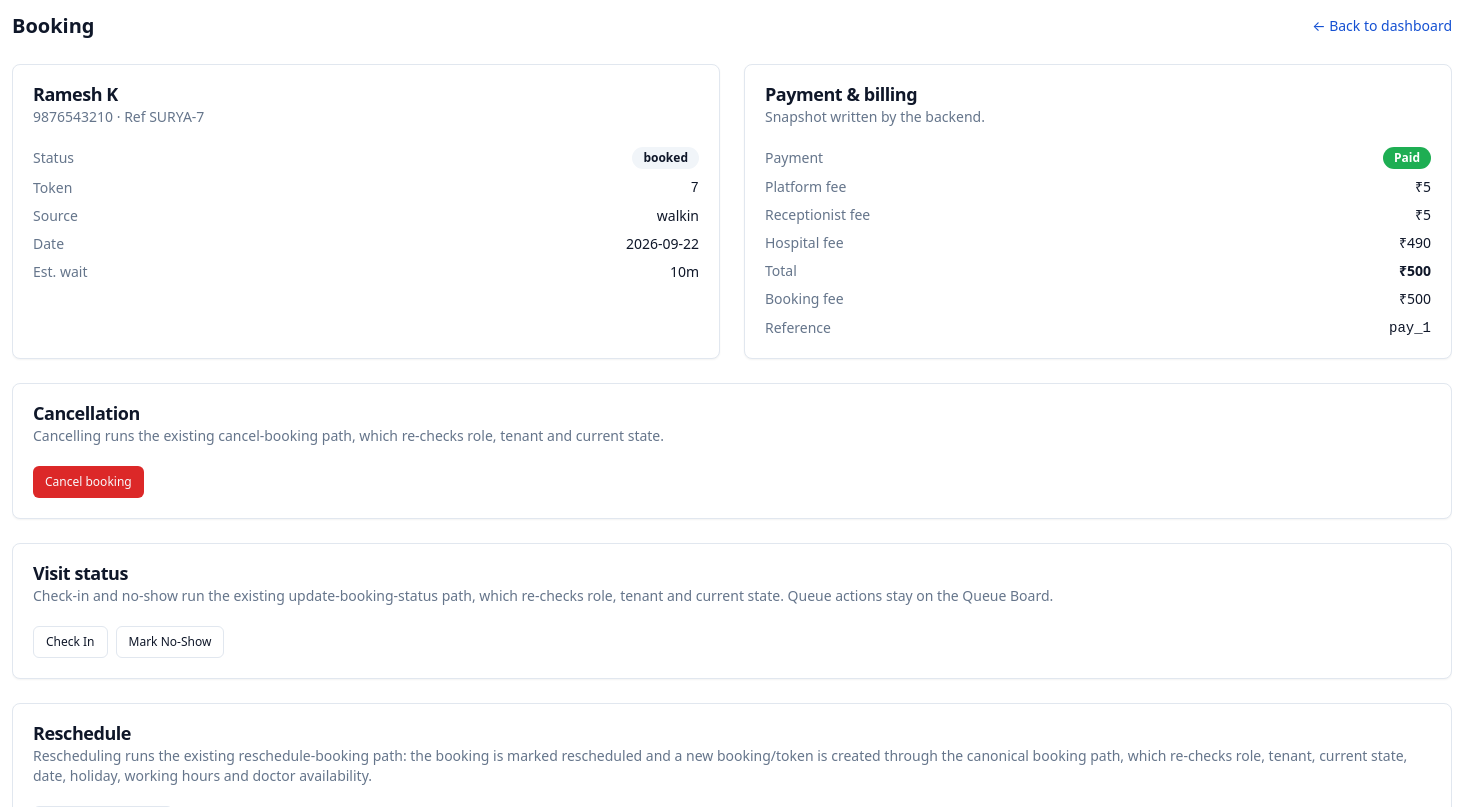
it: BookingDetail status-closure control › disables the action while the request is in flight
Expected: the heading "Ramesh K" is shown, [33,82,118,106]
Click the button "Check In": (70, 642) [33,626,108,658]
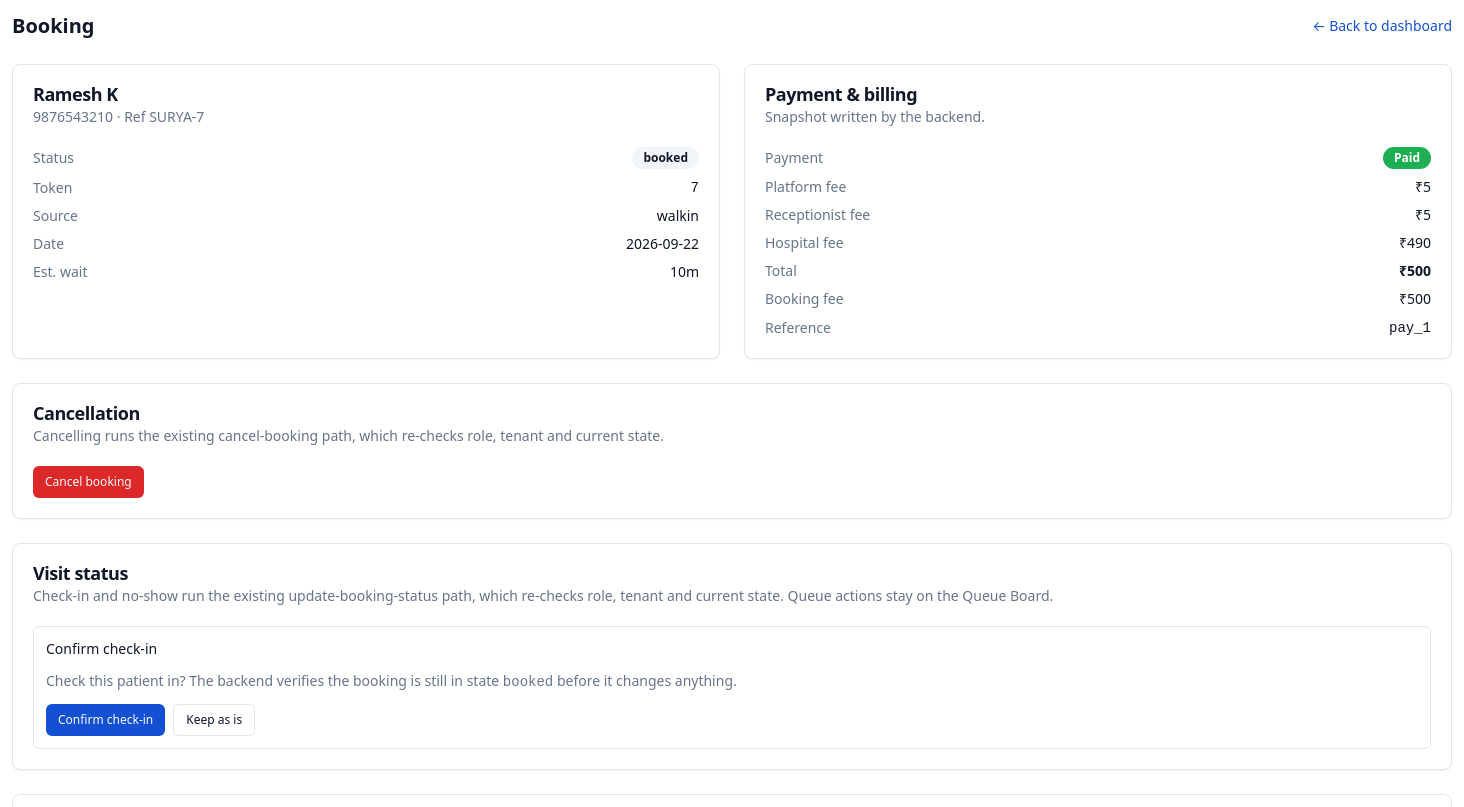
Click the button "Confirm check-in": (106, 720) [46,704,165,736]
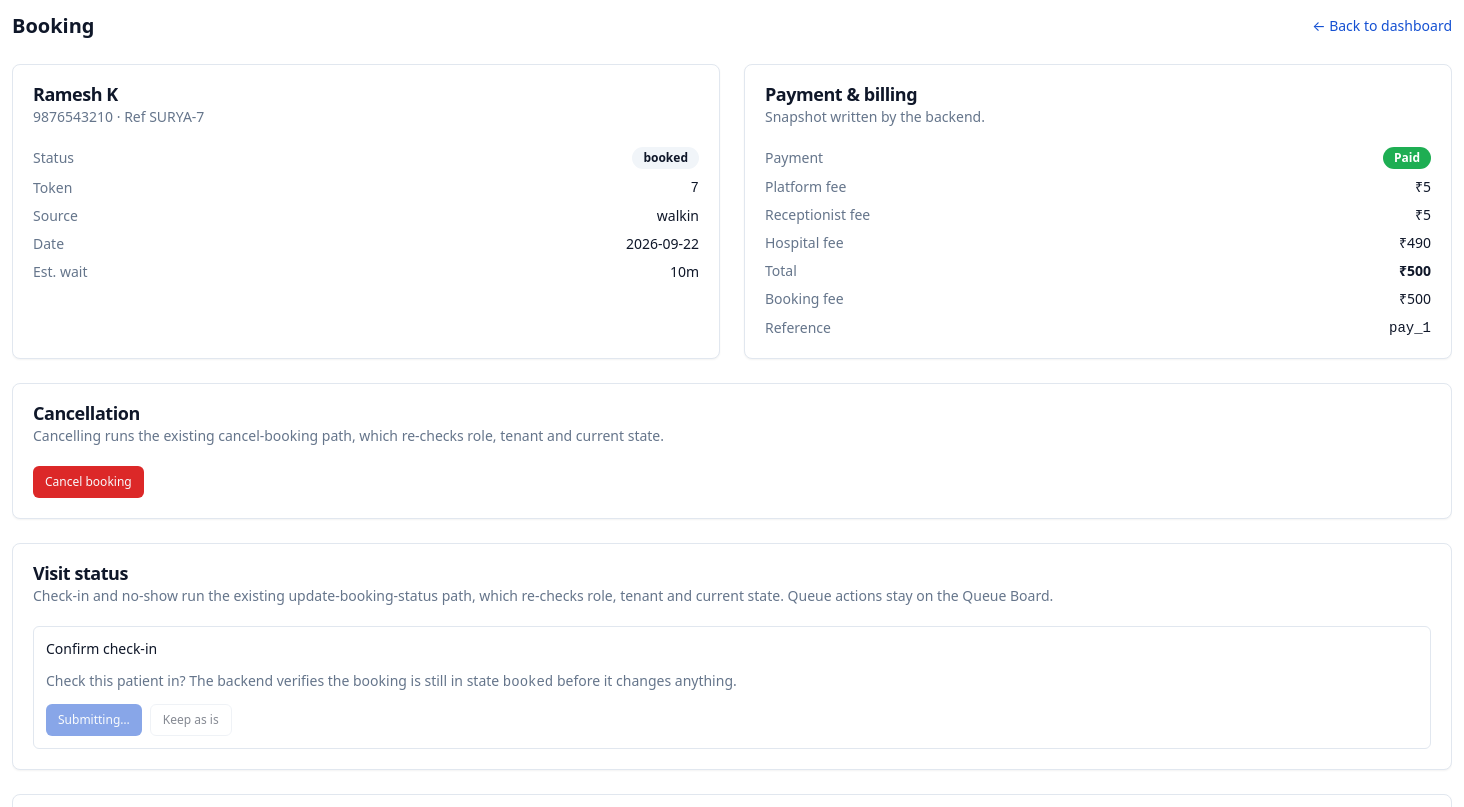
Result: the button "Submitting…" is disabled at [46,704,142,736]
Result: the button "Keep as is" is disabled at [150,704,232,736]
